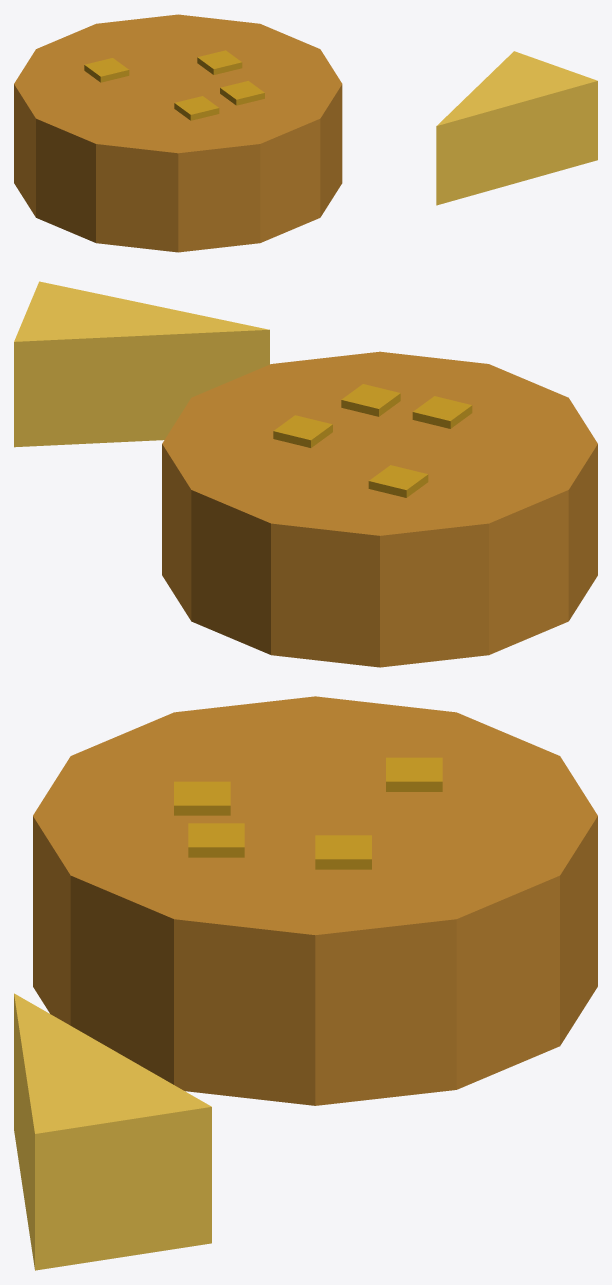
File: cheese.glb
The picture shows the model from 3 angles, top to bottom: view 1: azimuth 30°, elevation 25°; view 2: azimuth 150°, elevation 25°; view 3: azimuth 270°, elevation 25°; orthographic projection. The views are drawn at different scales.
Visible parts, largest first — view 1: cheese; view 2: cheese; view 3: cheese.
Part boxes in pixels (x1,y1,x2,y2): cheese: (14,14,597,252); cheese: (14,281,597,667); cheese: (14,696,597,1270).
Bounding box in the file's own units: 0.5068 × 0.106 × 0.31.
Materials: 1 (1 with a texture image).
